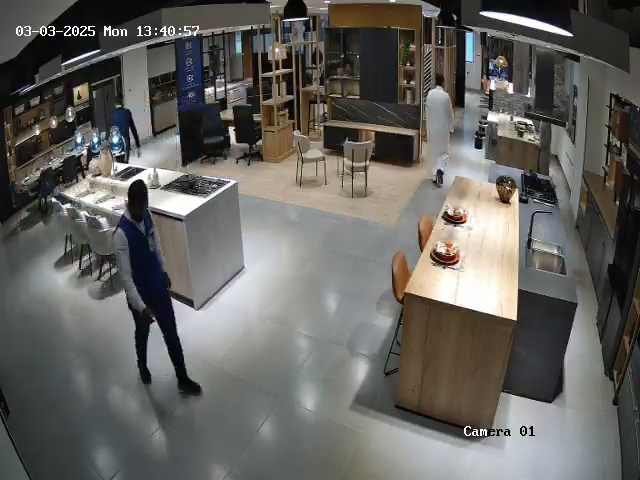employee: (113, 179, 203, 397), (109, 97, 141, 163)
male: (426, 73, 455, 187)
